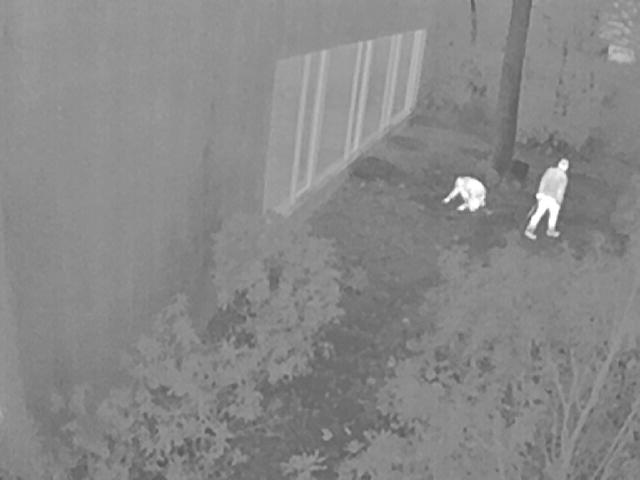person: (526, 157, 572, 241), (443, 175, 488, 214)
